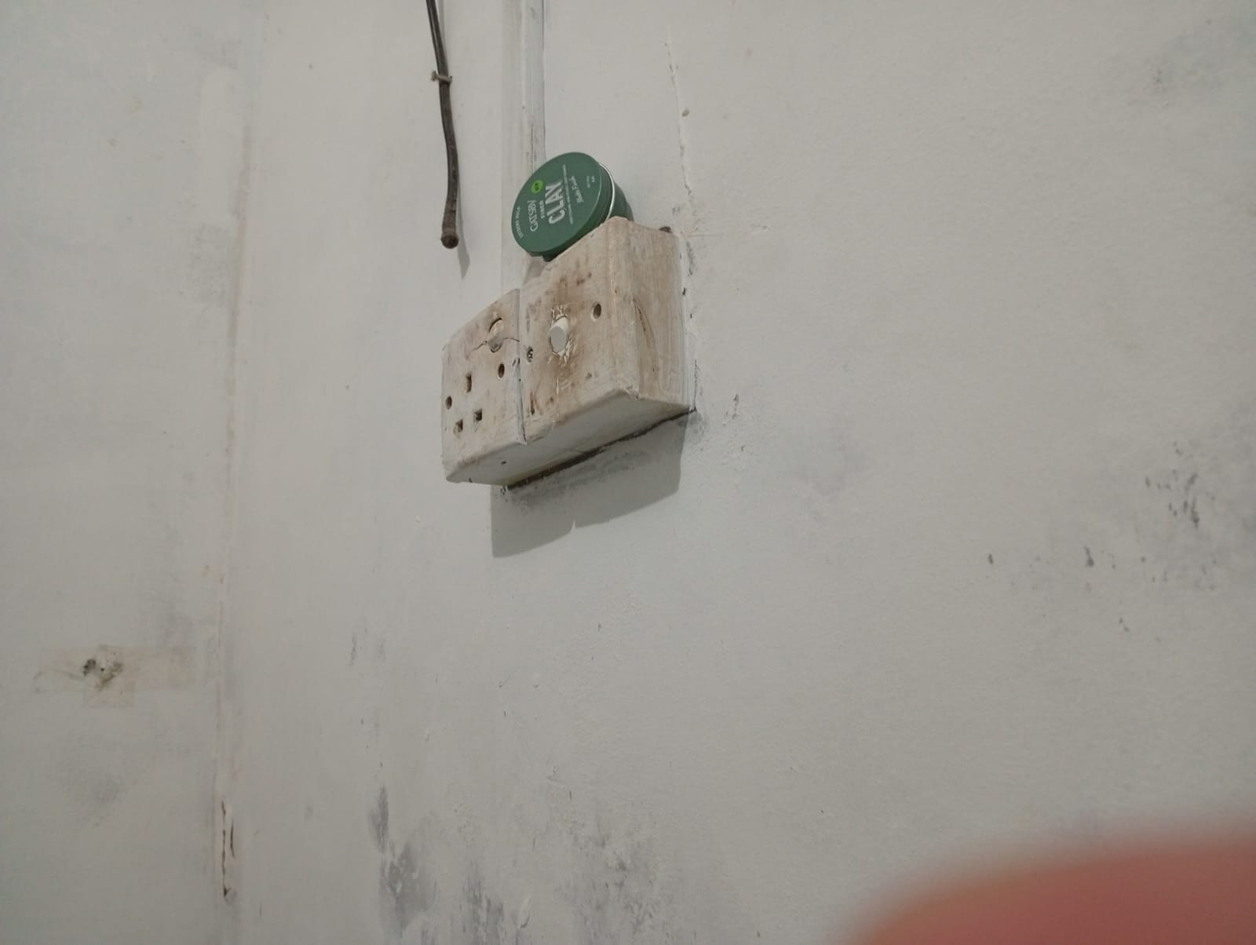Minyak_Rambut: (470, 141, 651, 265)
